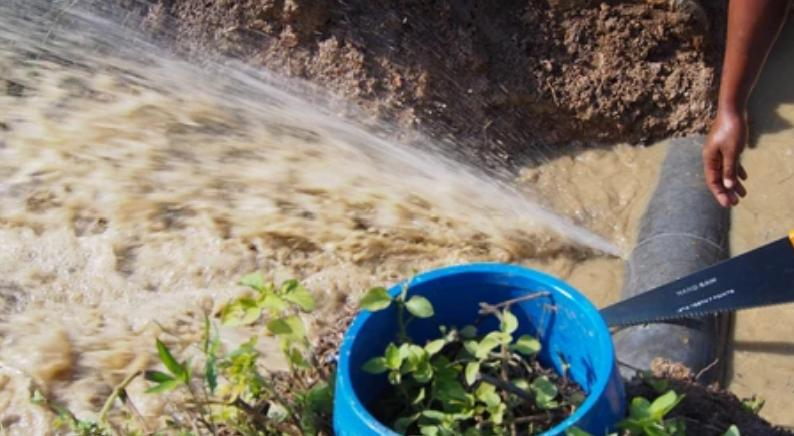pipe burst: (0, 0, 634, 262)
water accumulation: (0, 138, 661, 436), (720, 12, 794, 425)
